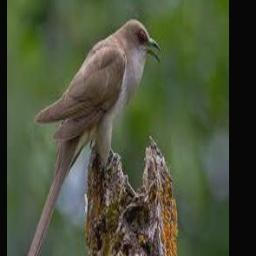Cuckoo: (19, 20, 161, 256)
